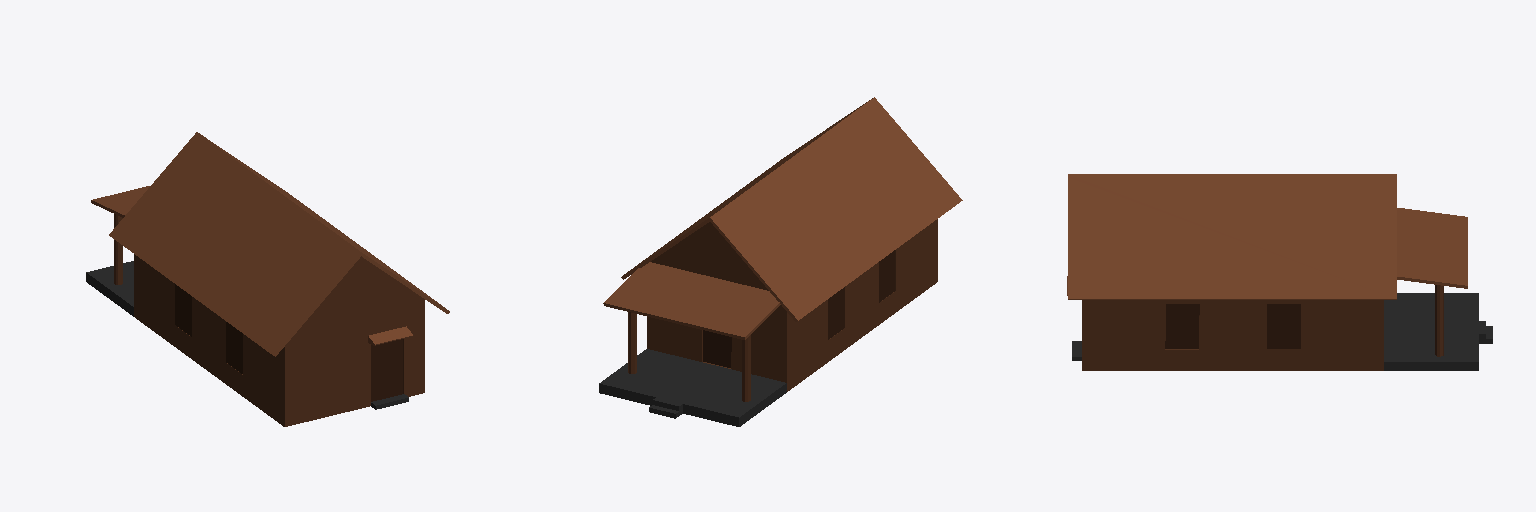
File: Farmhouse.obj
3 renders of one model, left to right at view 1: azimuth 30°, elevation 25°; view 2: azimuth 150°, elevation 25°; view 3: azimuth 270°, elevation 25°, orthographic.
Parts seen in each view (by area): view 1: polySurface73; view 2: polySurface73; view 3: polySurface73.
Boxes of the visible parts, box(x1,y1,x2,y2) form: polySurface73: box(86, 132, 449, 426); polySurface73: box(599, 97, 962, 426); polySurface73: box(1067, 174, 1492, 370).
Bounding box in the file's own units: 24.28 × 21.28 × 50.36.